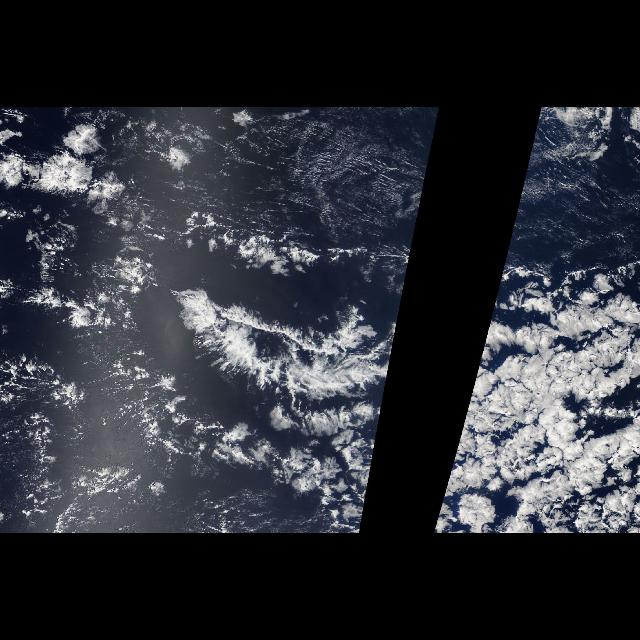Fish: (186, 291, 377, 435)
Sugar: (255, 114, 441, 236)
